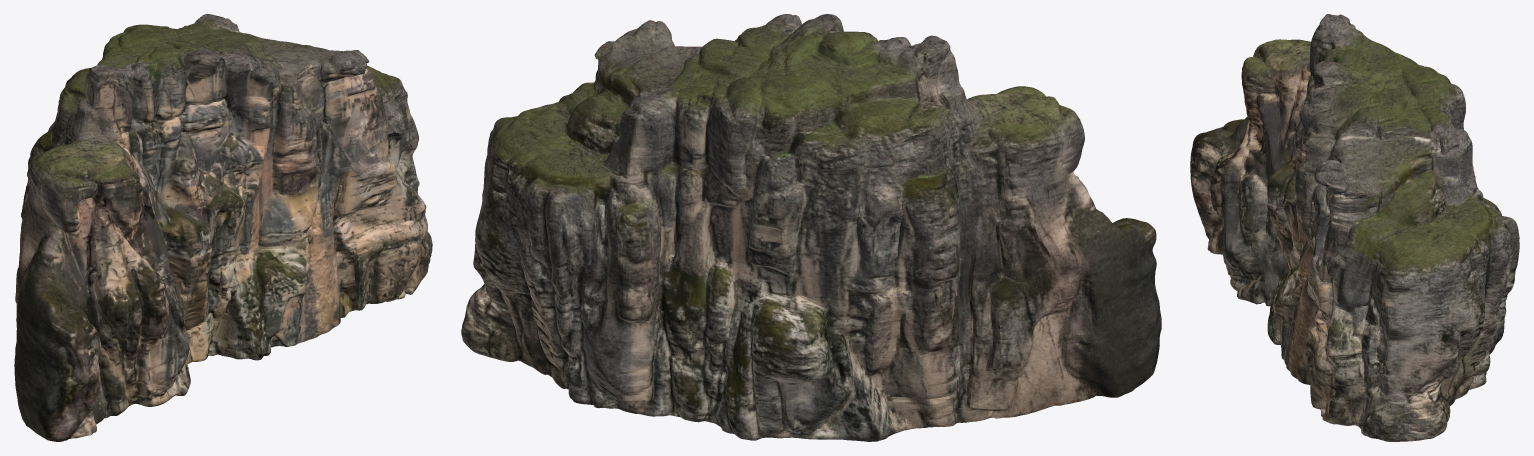
Rendered from Meshy_AI_Rugged_Cliff_Face_0325161655_texture.fbx.
3 renders of one model, left to right at view 1: azimuth 30°, elevation 25°; view 2: azimuth 150°, elevation 25°; view 3: azimuth 270°, elevation 25°, orthographic. The views are drawn at different scales.
Parts seen in each view (by area): view 1: temp; view 2: temp; view 3: temp.
Boxes of the visible parts, x1,y1,x2,y2 form: temp: (14,14,432,441); temp: (461,14,1161,441); temp: (1190,14,1519,441).
Bounding box in the file's own units: 191 × 112 × 124.
Materials: 1 (1 with a texture image).
